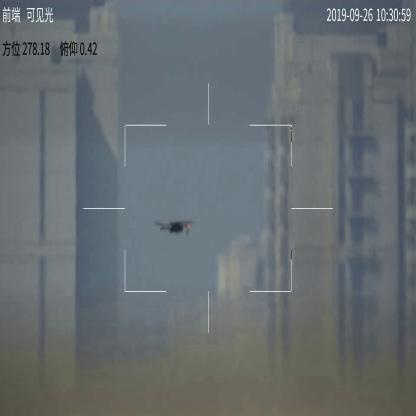uav: (155, 218, 196, 237)
